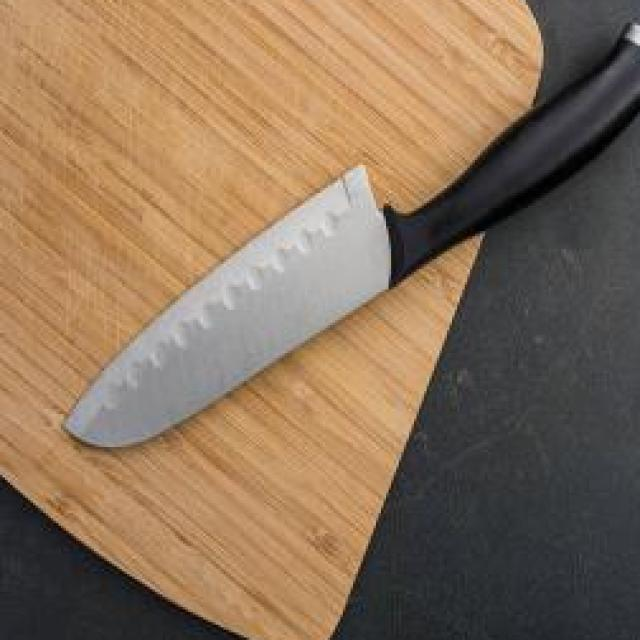knife: (61, 15, 640, 450)
